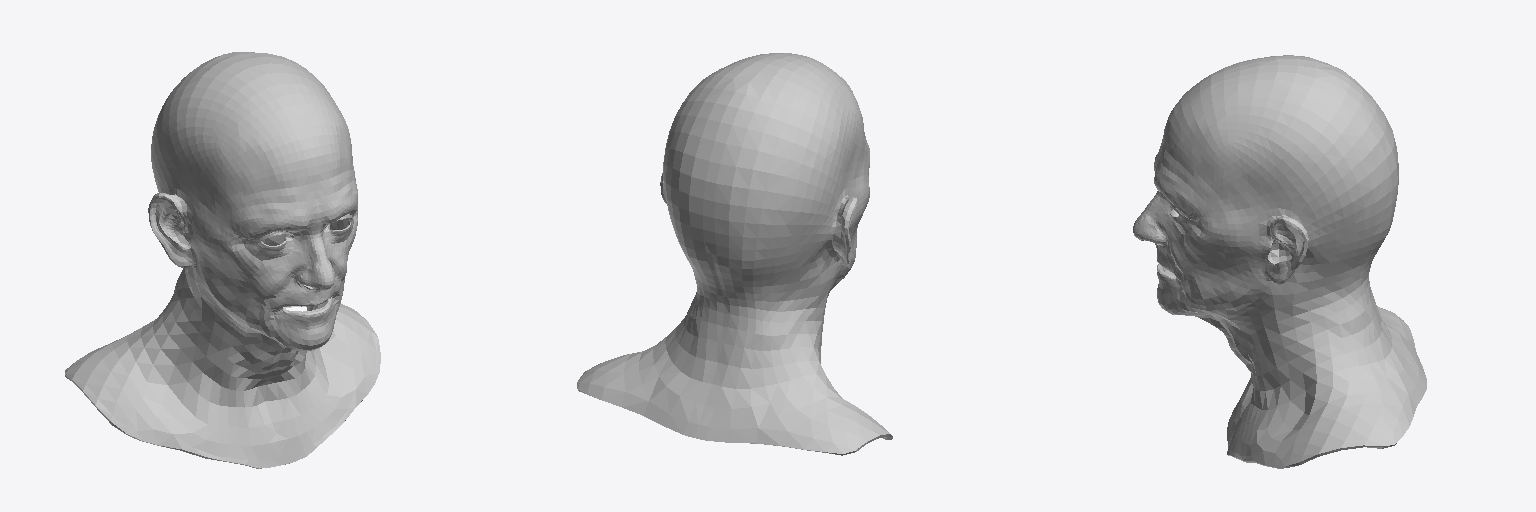
The model's file is wholeFace_TexSeams_deepBed.obj.
The picture shows the model from 3 angles: view 1: azimuth 30°, elevation 25°; view 2: azimuth 150°, elevation 25°; view 3: azimuth 270°, elevation 25°; orthographic projection.
Bounding box in the file's own units: 24.82 × 31.83 × 22.21.